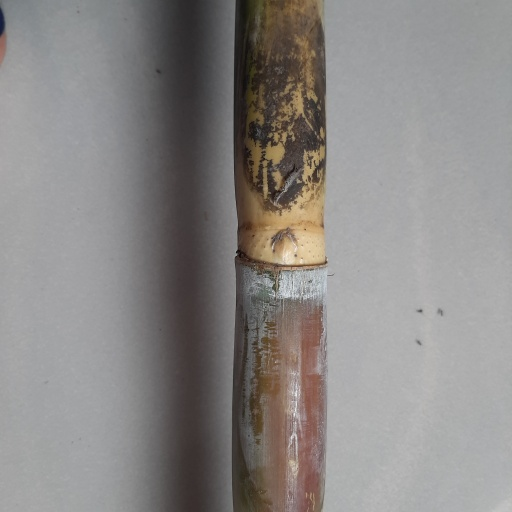Bud: (270, 229, 299, 263)
